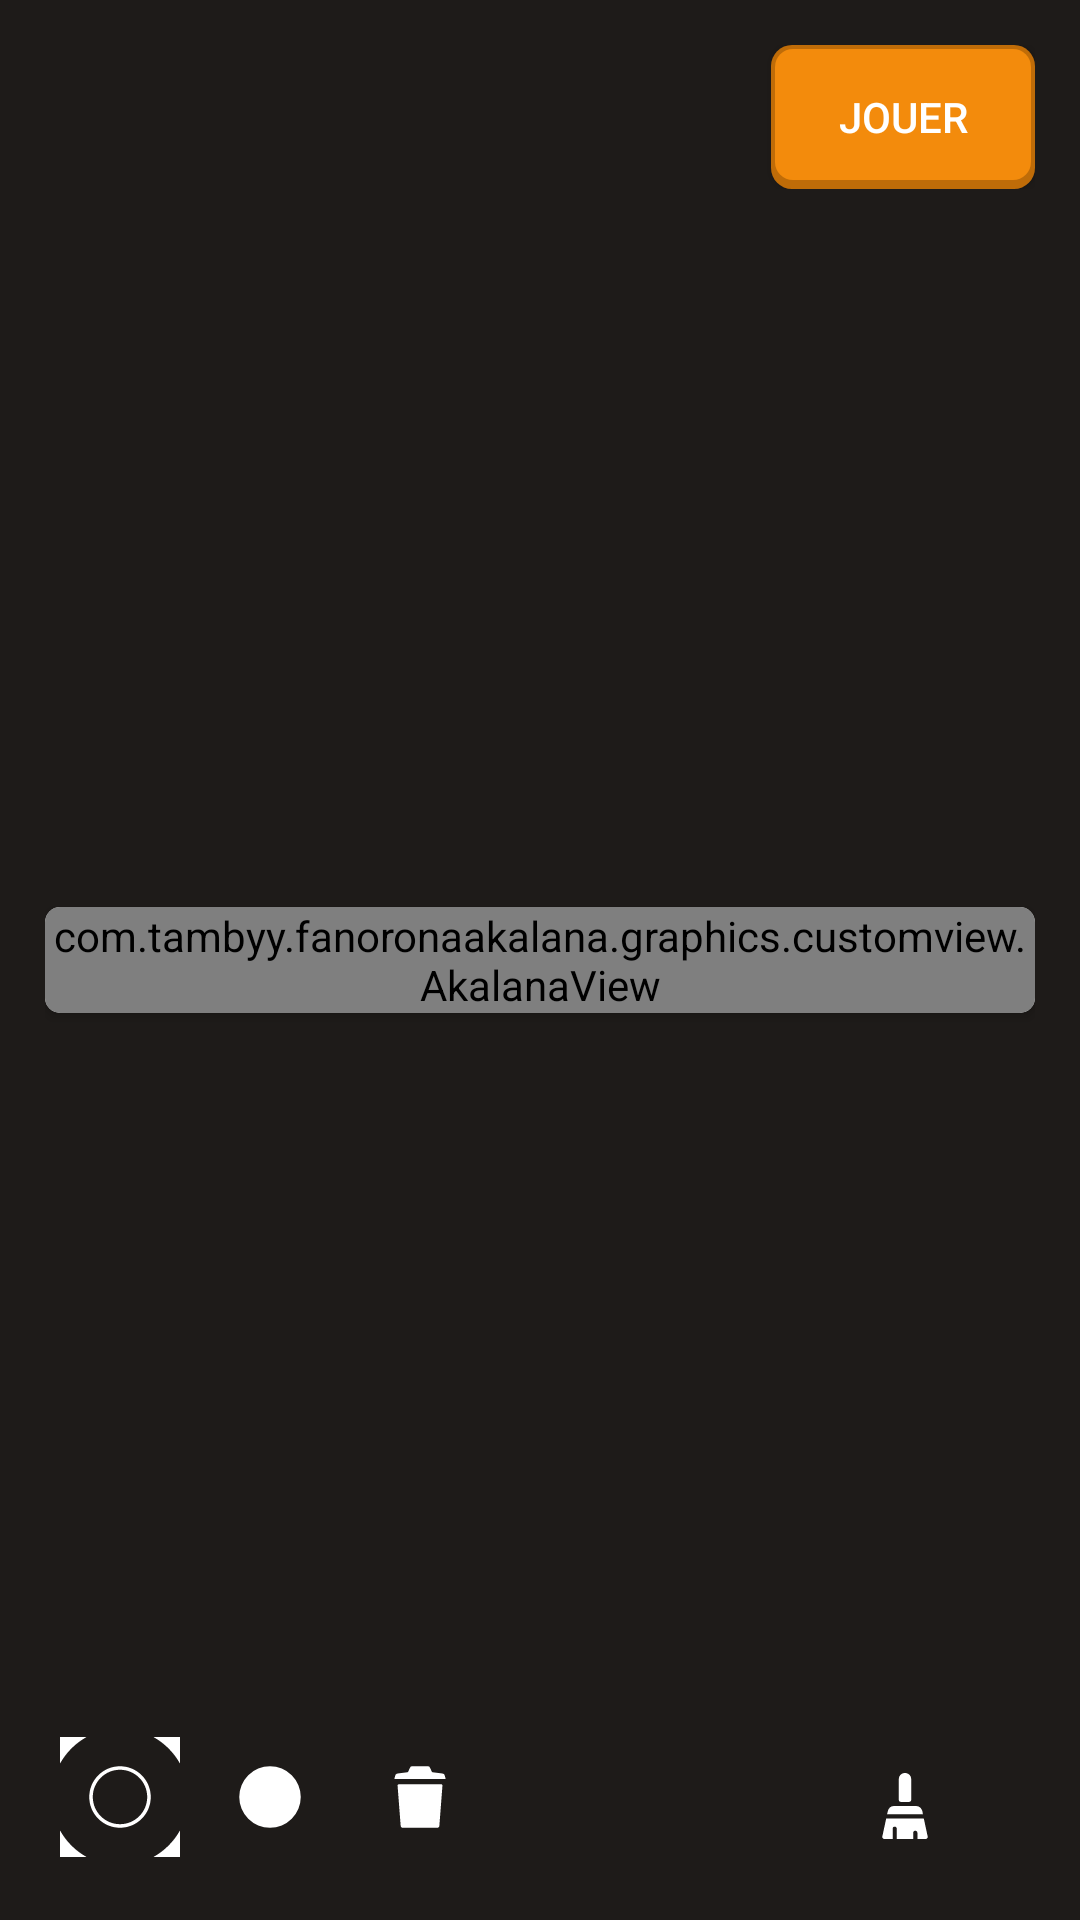

Named icons in this screenshot (1080px x 1920px) and their centers, point (x, y):
edition clear: point (905, 1806)
edition trash: point (420, 1797)
